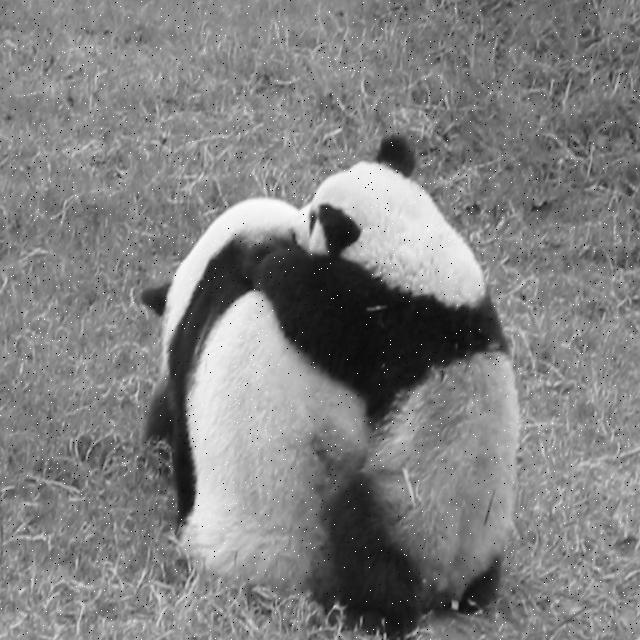panda: (246, 132, 510, 635), (141, 193, 381, 589)
